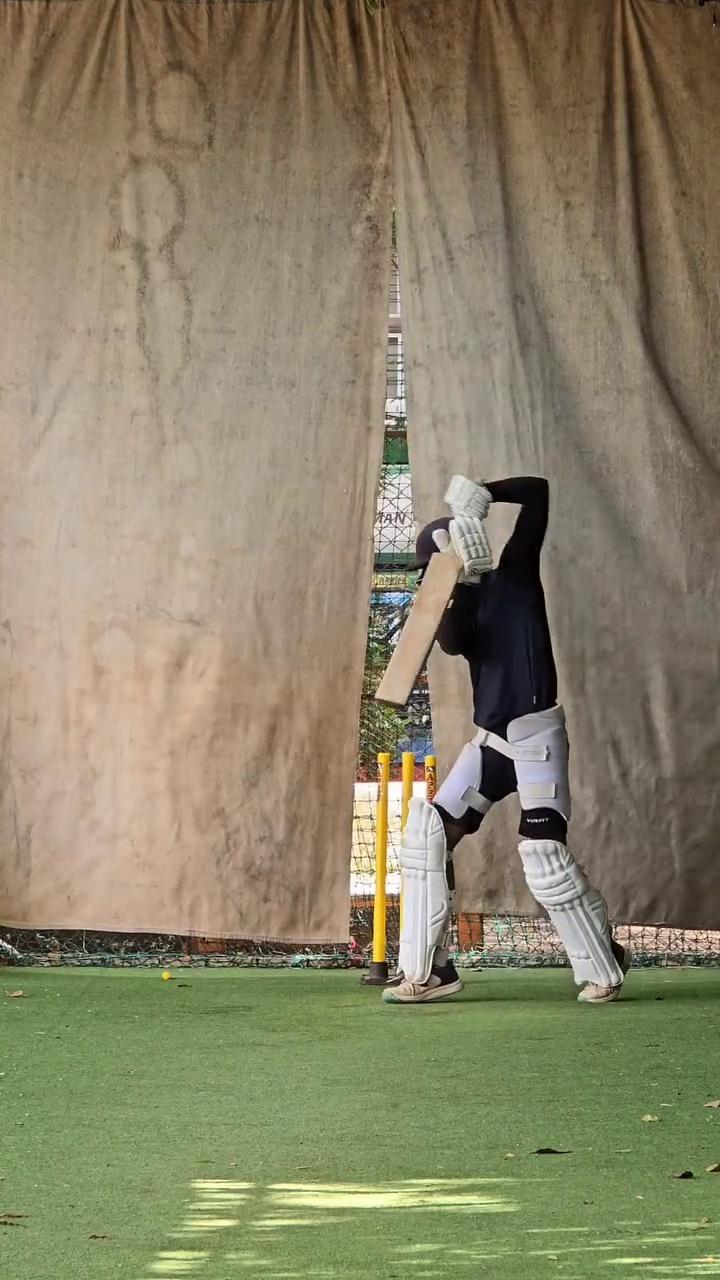bat: (371, 548, 466, 717)
